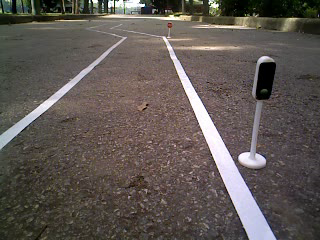Blue: (251, 57, 279, 102)
